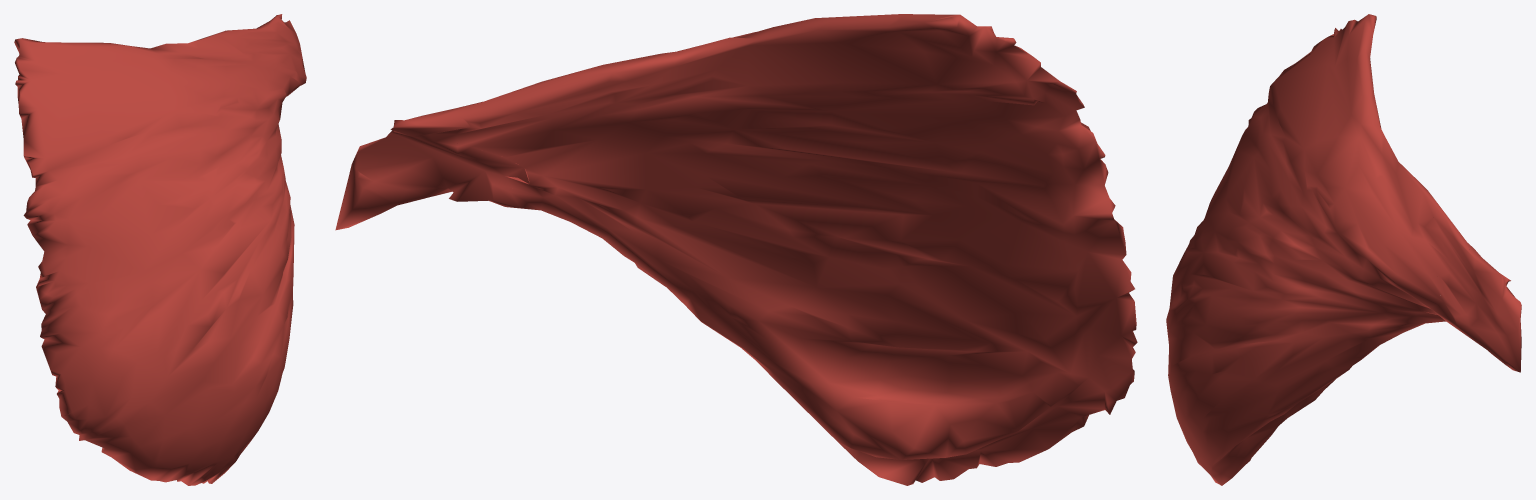
Rendered from musculos-sternocostal-head-of-pectoralis-major-muscle-l.glb.
3 views of the same model, side by side, from view 1: azimuth 30°, elevation 25°; view 2: azimuth 150°, elevation 25°; view 3: azimuth 270°, elevation 25° (orthographic). The views are drawn at different scales.
Parts seen in each view (by area): view 1: Sternocostal head of pectoralis major muscle.l; view 2: Sternocostal head of pectoralis major muscle.l; view 3: Sternocostal head of pectoralis major muscle.l.
Boxes of the visible parts, x1,y1,x2,y2 form: Sternocostal head of pectoralis major muscle.l: (14,14,306,485); Sternocostal head of pectoralis major muscle.l: (335,14,1137,485); Sternocostal head of pectoralis major muscle.l: (1166,14,1521,485).
Bounding box in the file's own units: 0.1901 × 0.1822 × 0.1423.
